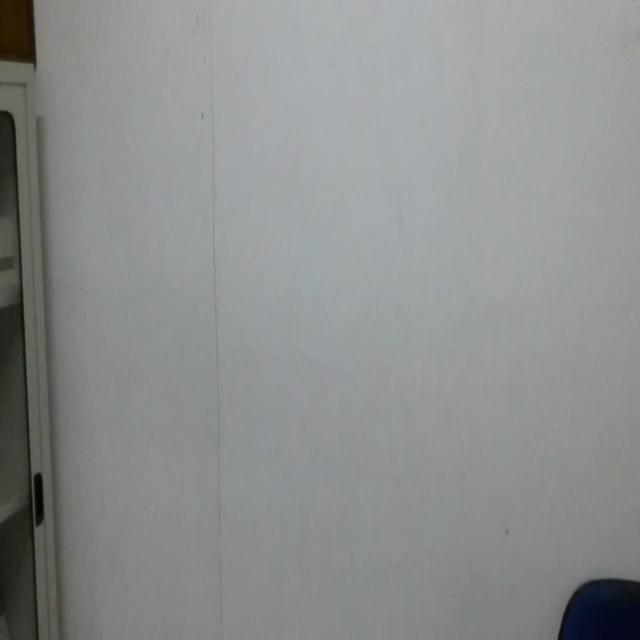Crack: (200, 0, 230, 640)
